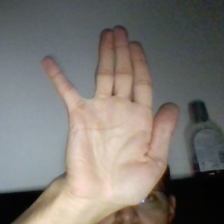left: (34, 23, 180, 202)
